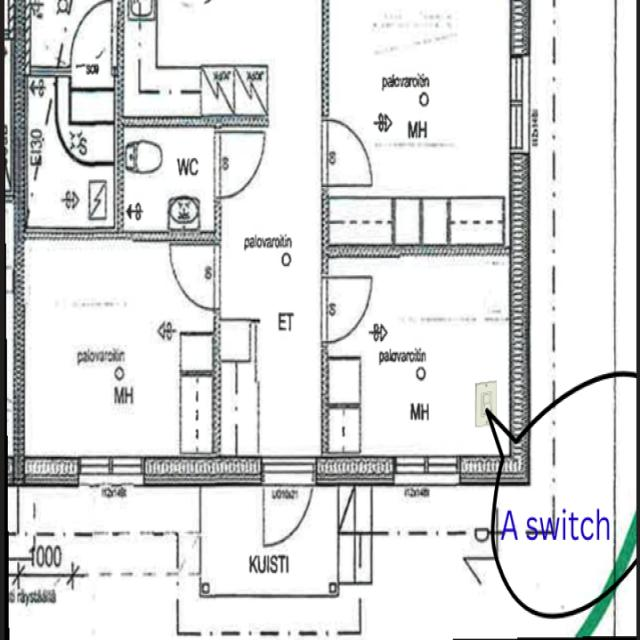switch: (473, 376, 499, 431)
wall: (506, 140, 533, 489), (142, 451, 268, 492), (14, 446, 83, 496), (313, 452, 399, 489), (457, 449, 533, 490), (506, 0, 532, 60)
